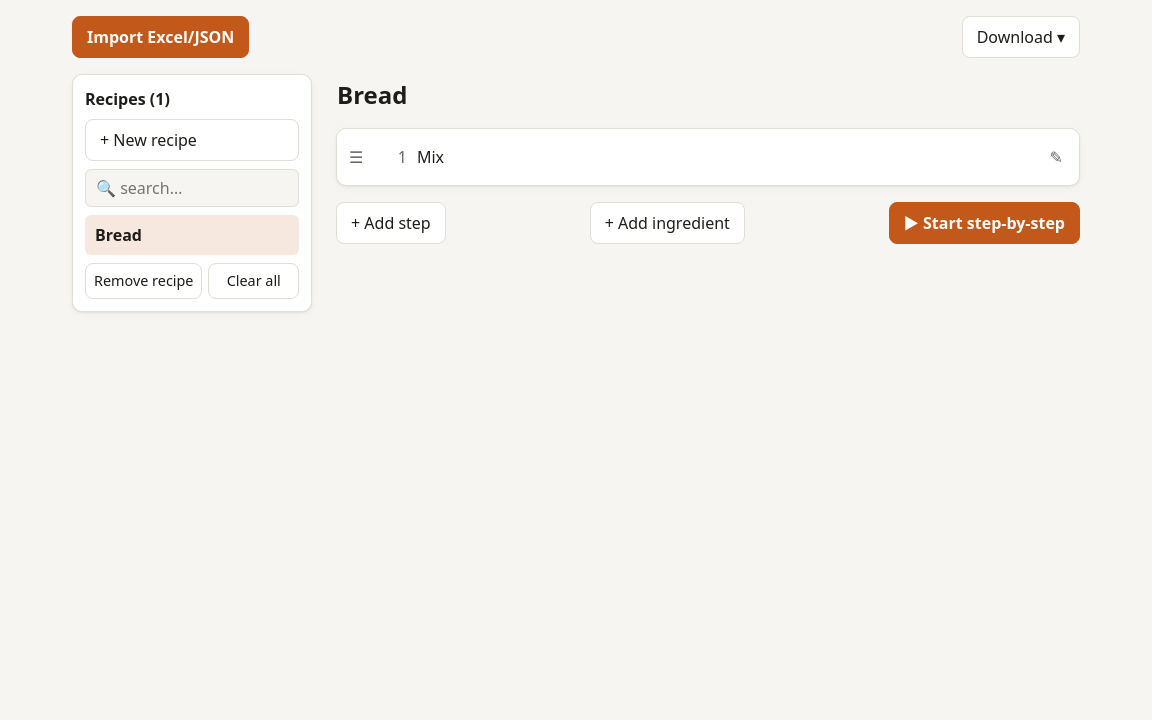
Test: new recipe closes an open step editor
Earlier steps of the test are not shown.
Click the button named "Edit step 1" at x=1056, y=157, box [1042,139,1071,175]
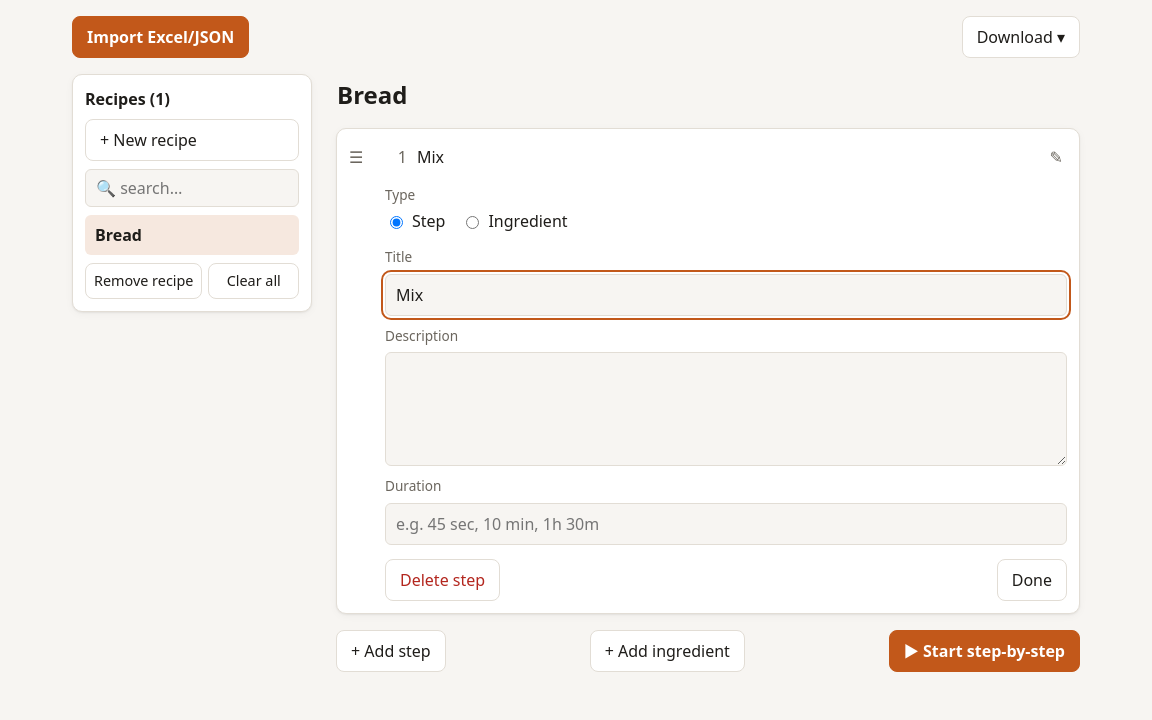
Click the button "+ New recipe" at x=192, y=140, box [85,119,299,161]
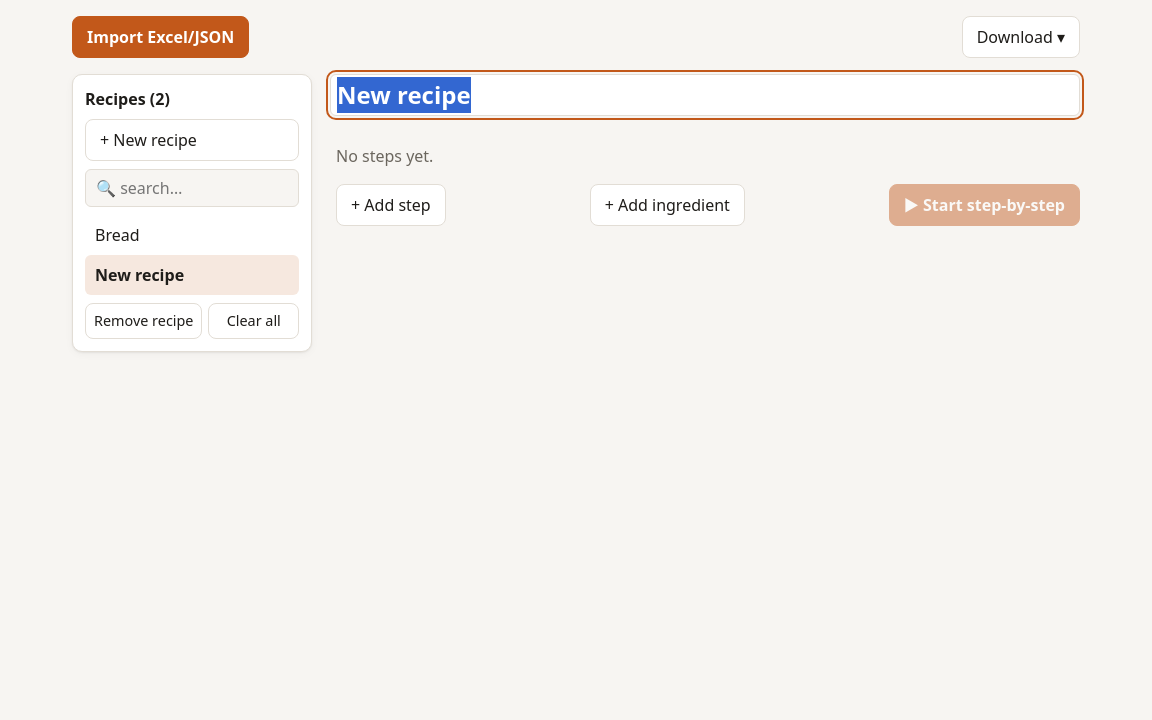
expect the label labelled "Title" is gone: met
expect the button "New recipe" is shown: met, box [85,255,299,295]
